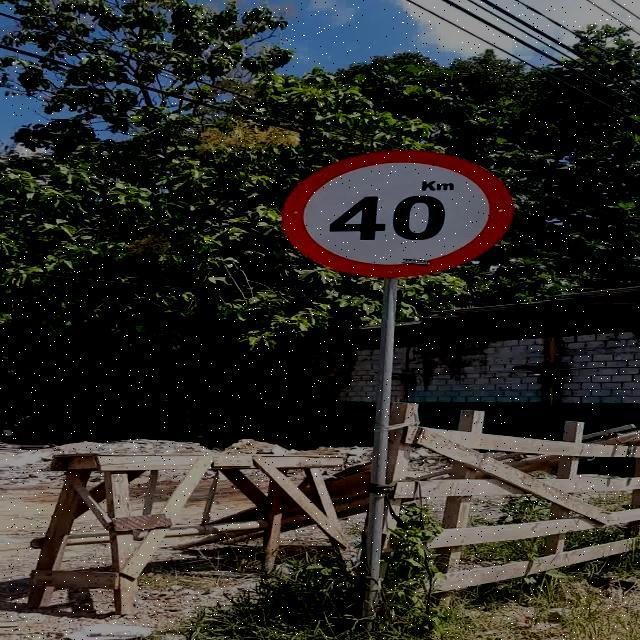Kecepatan Maks. 40 km: (280, 150, 514, 278)
